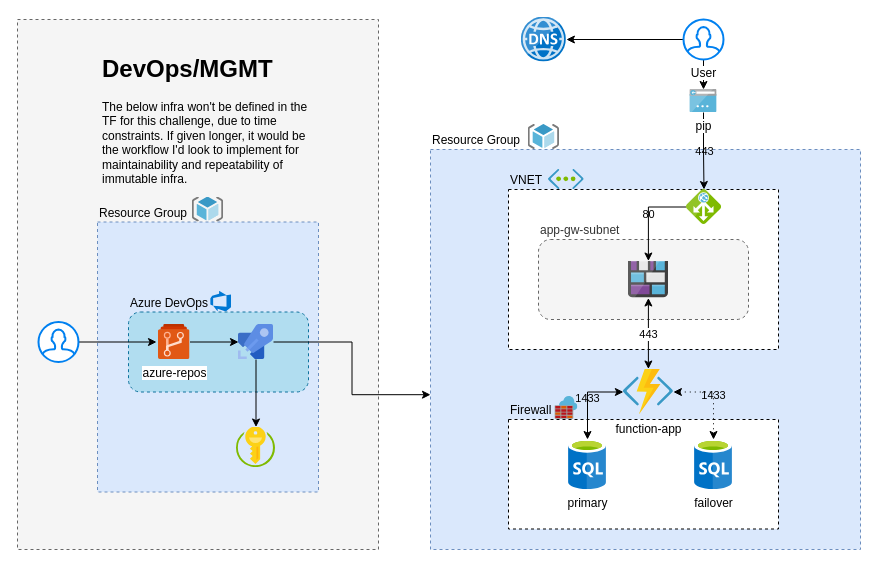
The diagram is 878 pixels wide and 567 high, and some of its shapes have lost their labels. The shapes that lost their labels are listed below. From the top down, each one's centre as x and y in pixels, then its label:
the point at 543,39: mysite.co.uk
the point at 703,206: app-gw
the point at 648,279: static-site-sa
the point at 58,341: DevOps
the point at 255,341: tf-pipeline
the point at 255,446: kv-secrets
